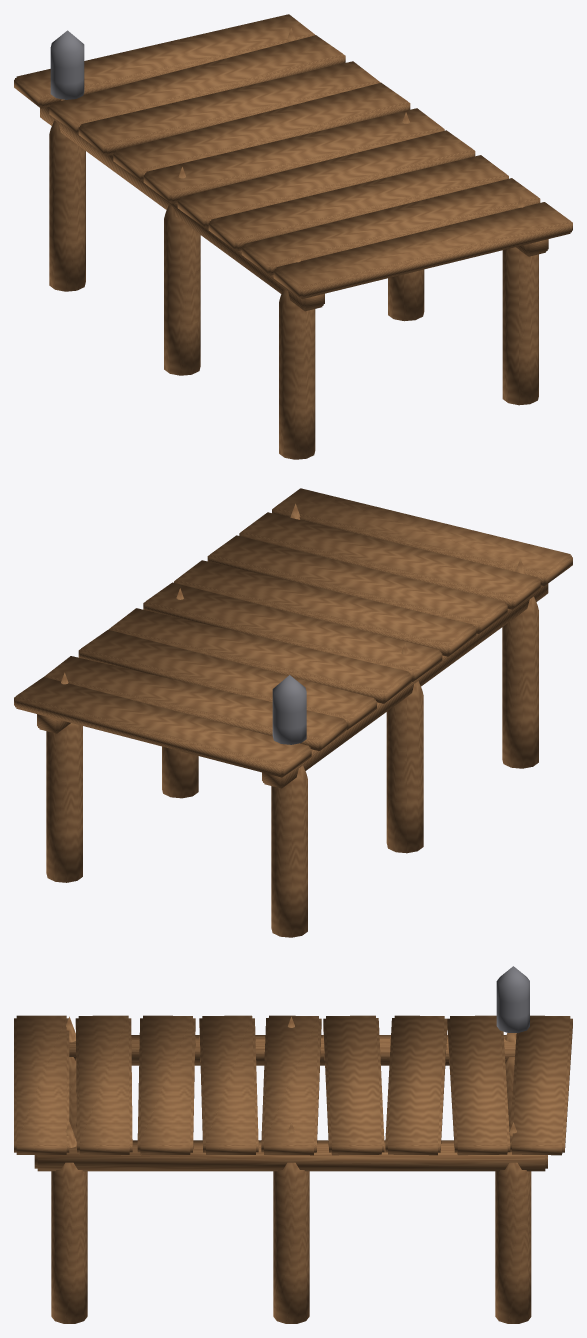
Rendered from WoodenDock.fbx.
The picture shows the model from 3 angles, top to bottom: view 1: azimuth 30°, elevation 25°; view 2: azimuth 150°, elevation 25°; view 3: azimuth 270°, elevation 25°; orthographic projection. The views are drawn at different scales.
Parts seen in each view (by area): view 1: WoodenDock; view 2: WoodenDock; view 3: WoodenDock.
Part boxes in pixels (bbox=[...]): WoodenDock: bbox=[14, 14, 572, 459]; WoodenDock: bbox=[14, 488, 572, 937]; WoodenDock: bbox=[14, 966, 572, 1323].
Bounding box in the file's own units: 221 × 195 × 403.
Materials: 1 (1 with a texture image).
